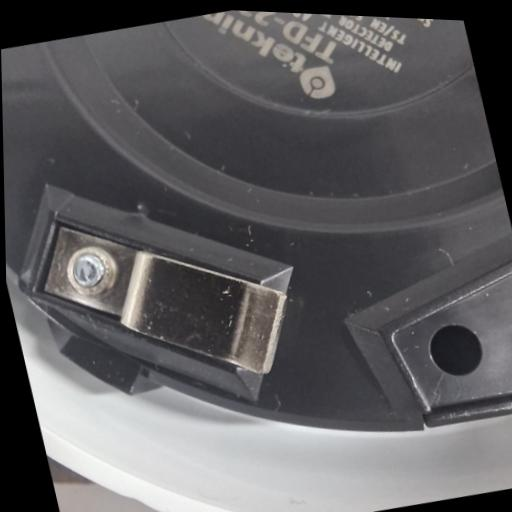yaysiz: (23, 177, 326, 437)
